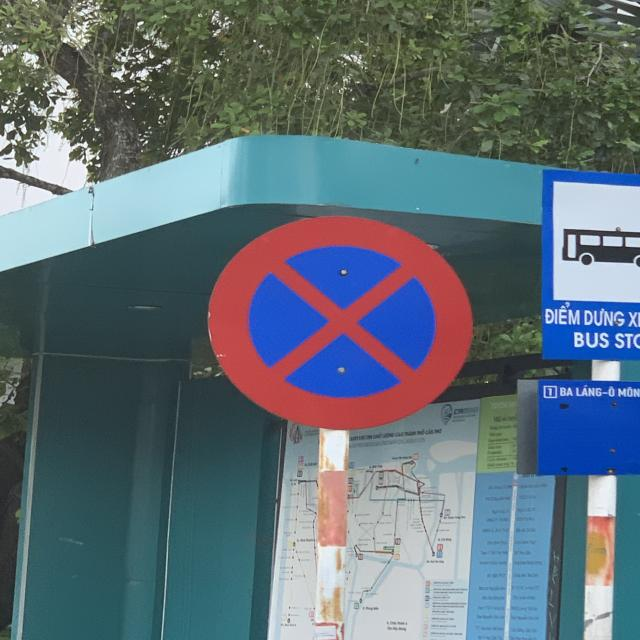Cam_Dung_Va_Dau_Xe: (207, 215, 473, 430)
